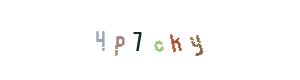4: (88, 0, 168, 80)
7: (100, 0, 180, 80)
C: (110, 0, 190, 80)
K: (112, 0, 192, 80)
P: (98, 0, 178, 80)
Y: (146, 0, 226, 80)
